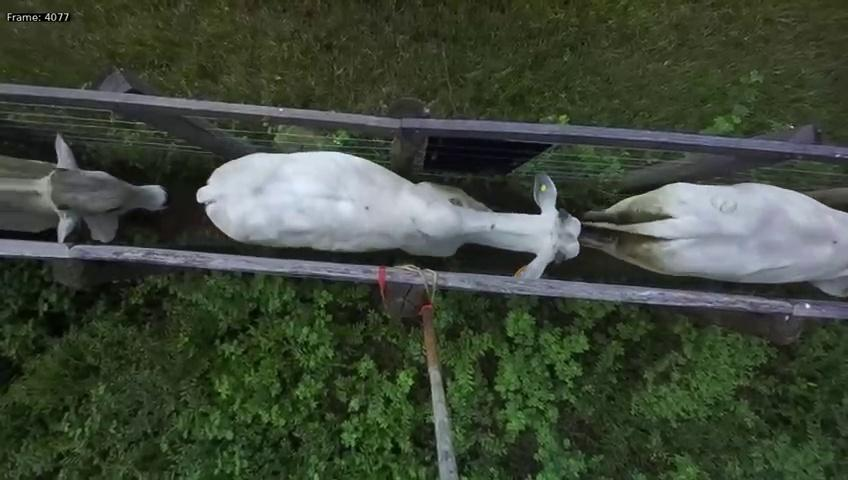cattle: (194, 123, 584, 279), (0, 125, 172, 256)
